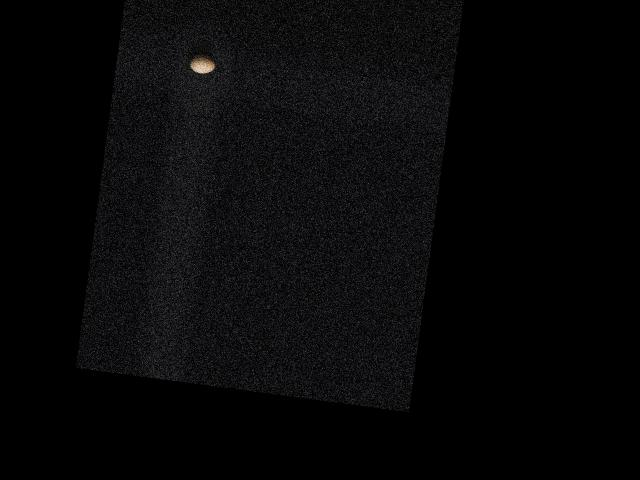egg: (187, 53, 216, 75)
